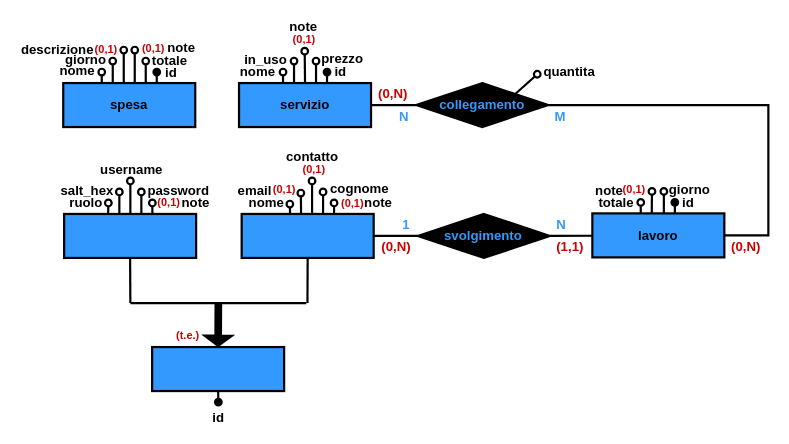
Some shapes in this 789 by 444 pixel diagram are drawn without their labels. The centre of each missing label's shape, as x and y in pixels:
"cliente" goes at (307,235).
"persona" goes at (217,368).
"utente" goes at (129,235).
